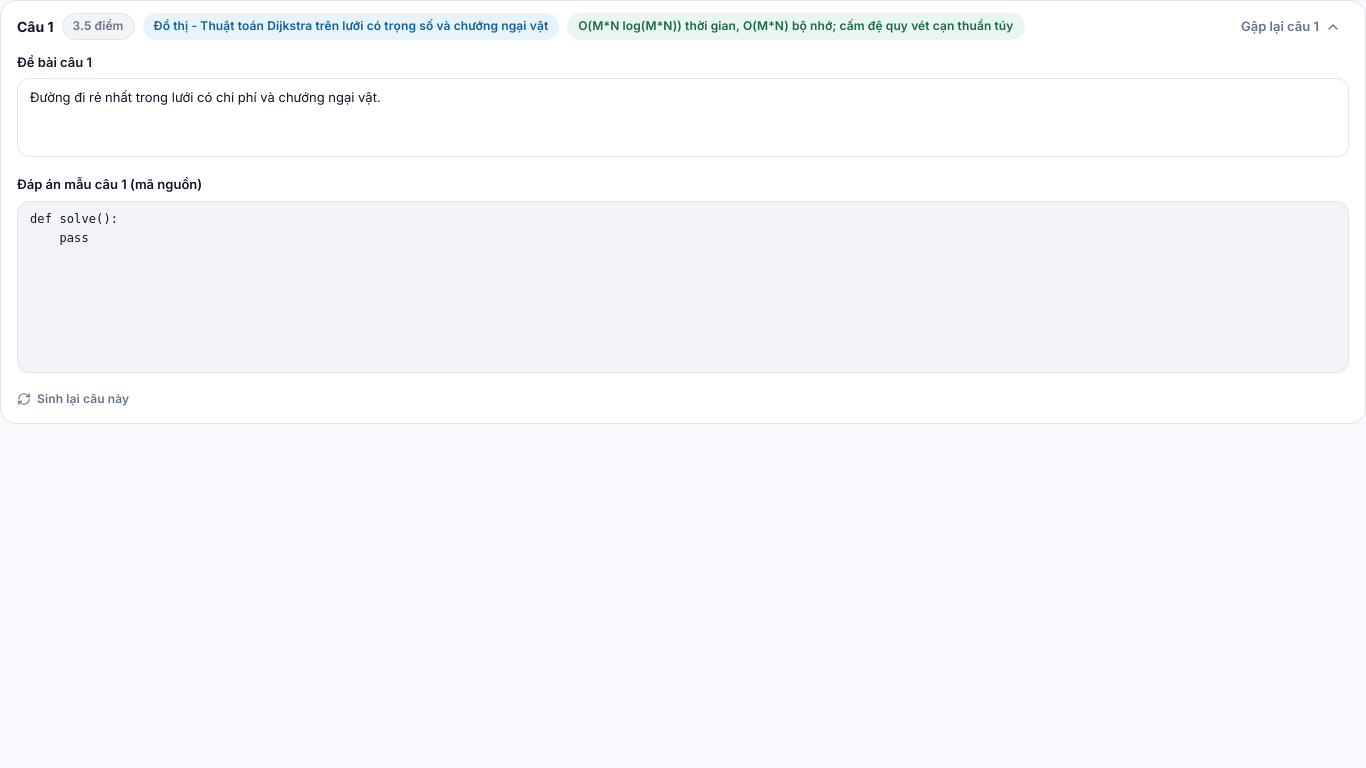
Scenario: QuestionCard — sinh lại câu KHÔNG bị gắn cờ trùng bài kinh điển › gửi đúng ghi chú lên, và KHÔNG có dòng "Không được ra lại bài..." — không có gì để tránh
Click the button "Sinh lại câu này" at (73, 399), box [17,390,129,407]
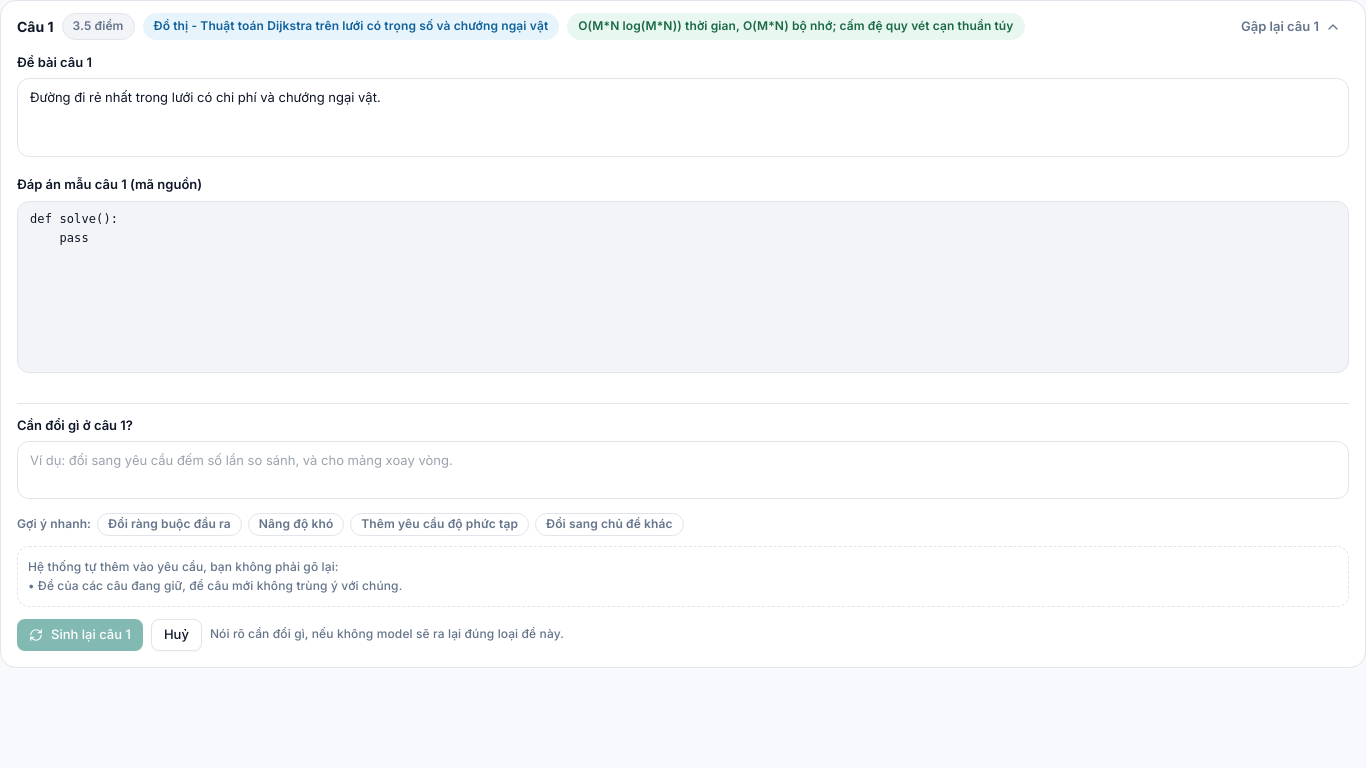
Result: the text "Đề của các câu đang giữ" is shown at [28,578,402,593]
